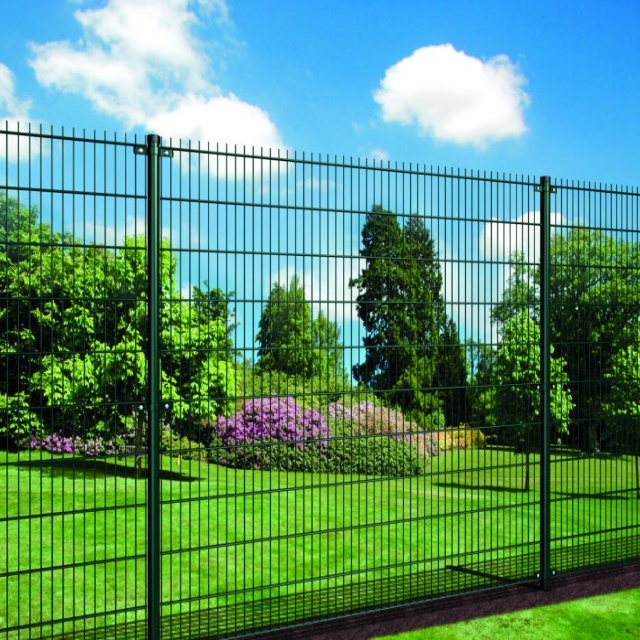obstacle: (0, 210, 548, 531)
